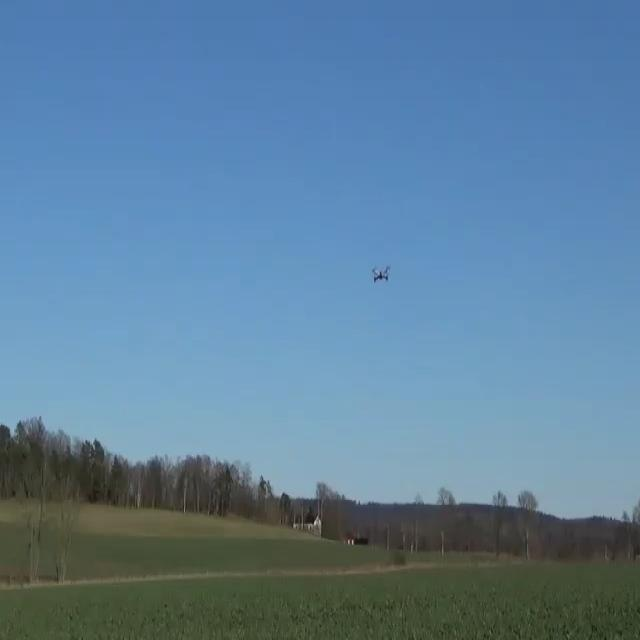Drone: (362, 257, 399, 292)
